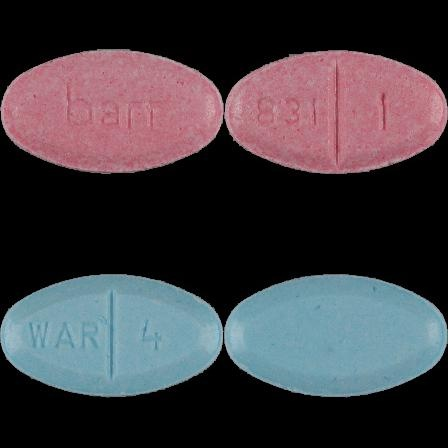51655-278: (0, 0, 224, 224)
